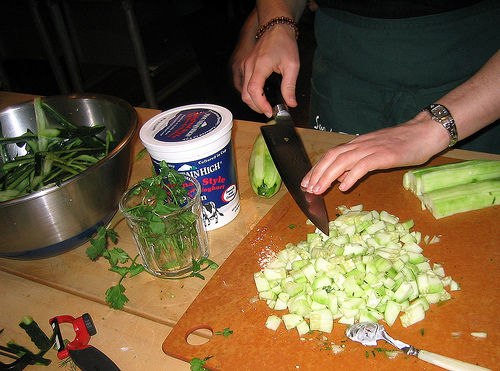cucumber: (248, 132, 283, 198)
